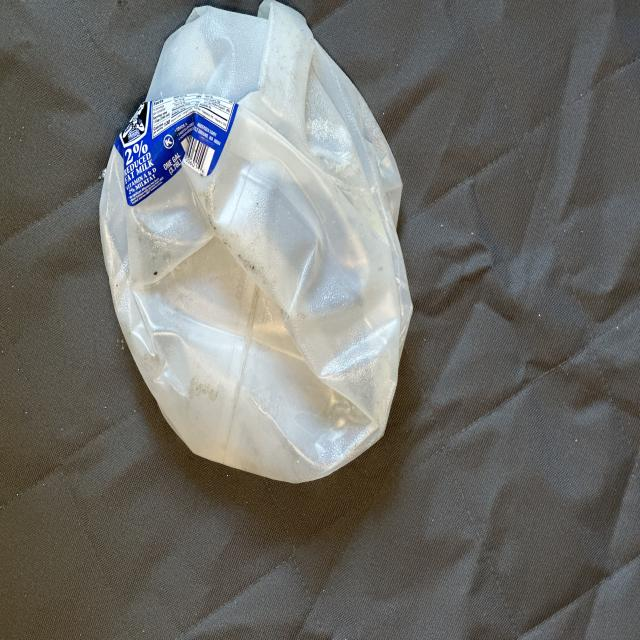milk-jug: (101, 5, 416, 485)
